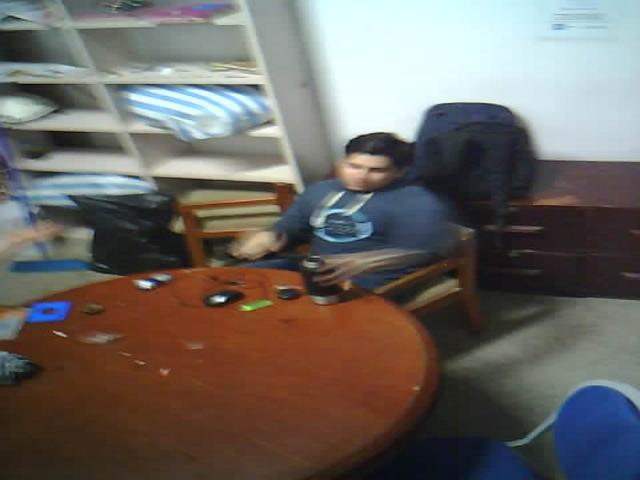person: (200, 95, 507, 356)
